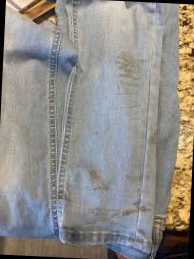earth: (118, 52, 141, 90), (87, 171, 110, 192), (88, 208, 116, 223), (125, 202, 147, 217)
